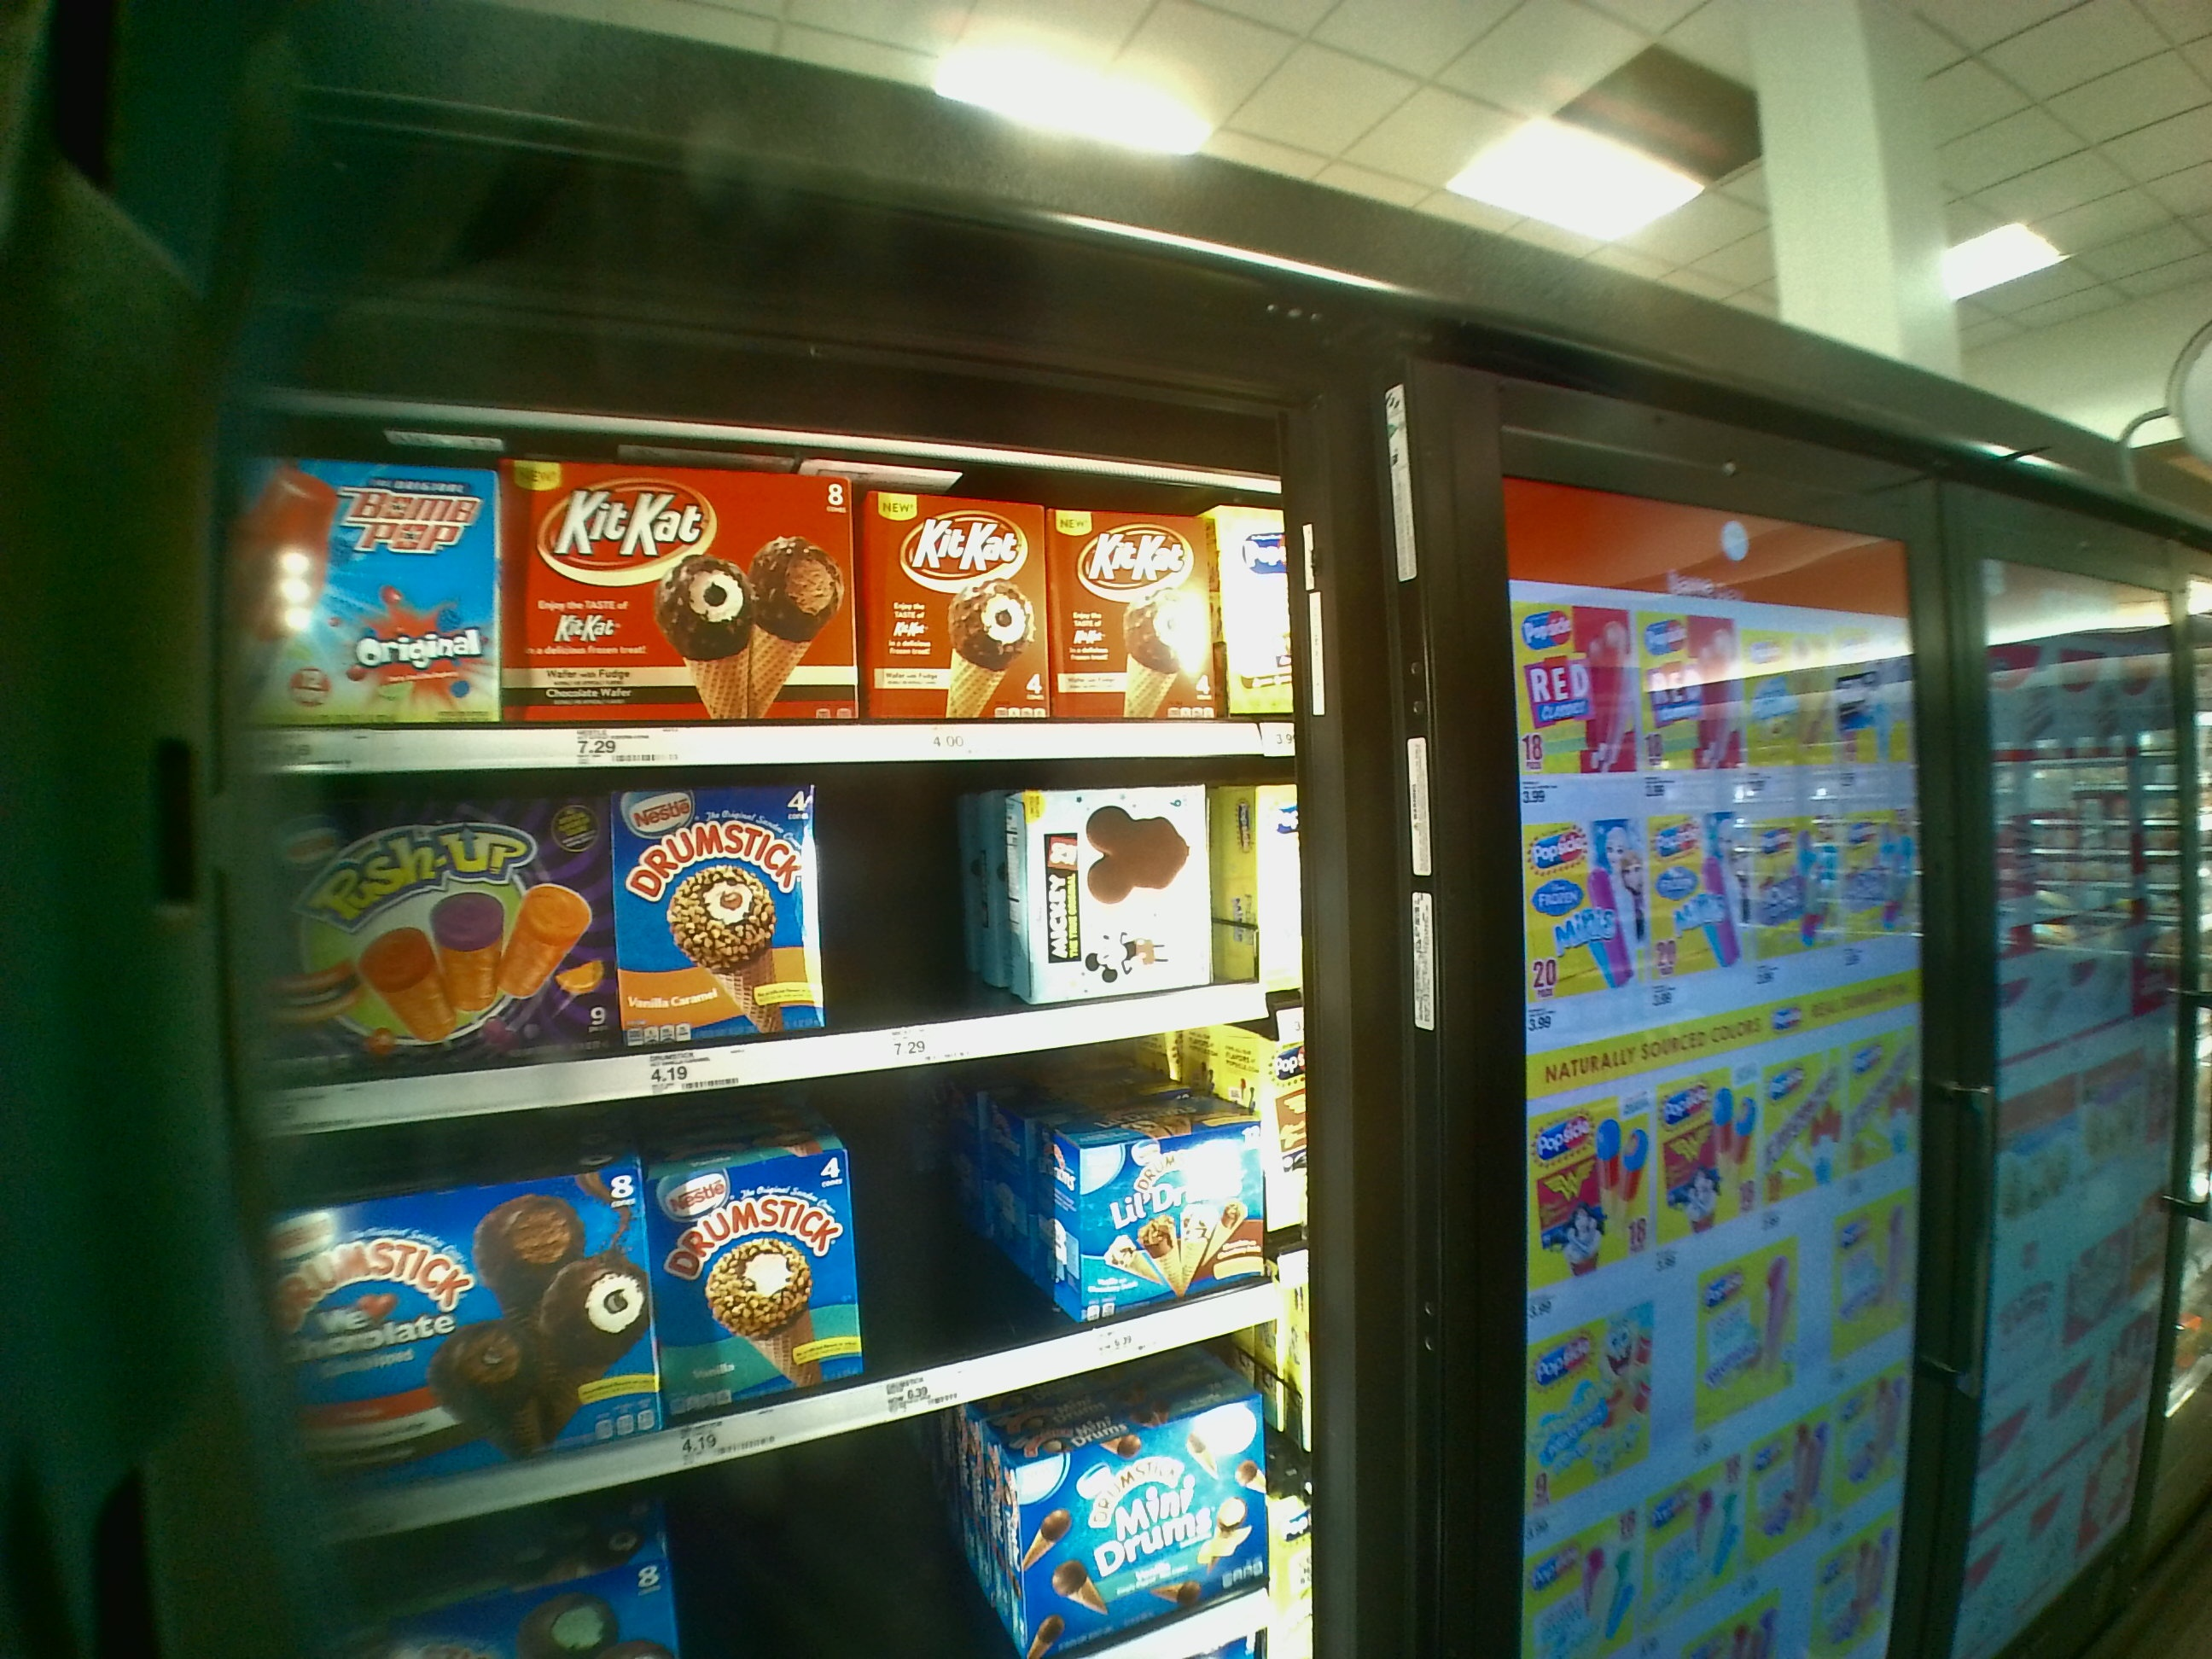shelf: (263, 1096, 1332, 1455), (221, 413, 1322, 755), (246, 758, 1318, 1079)
